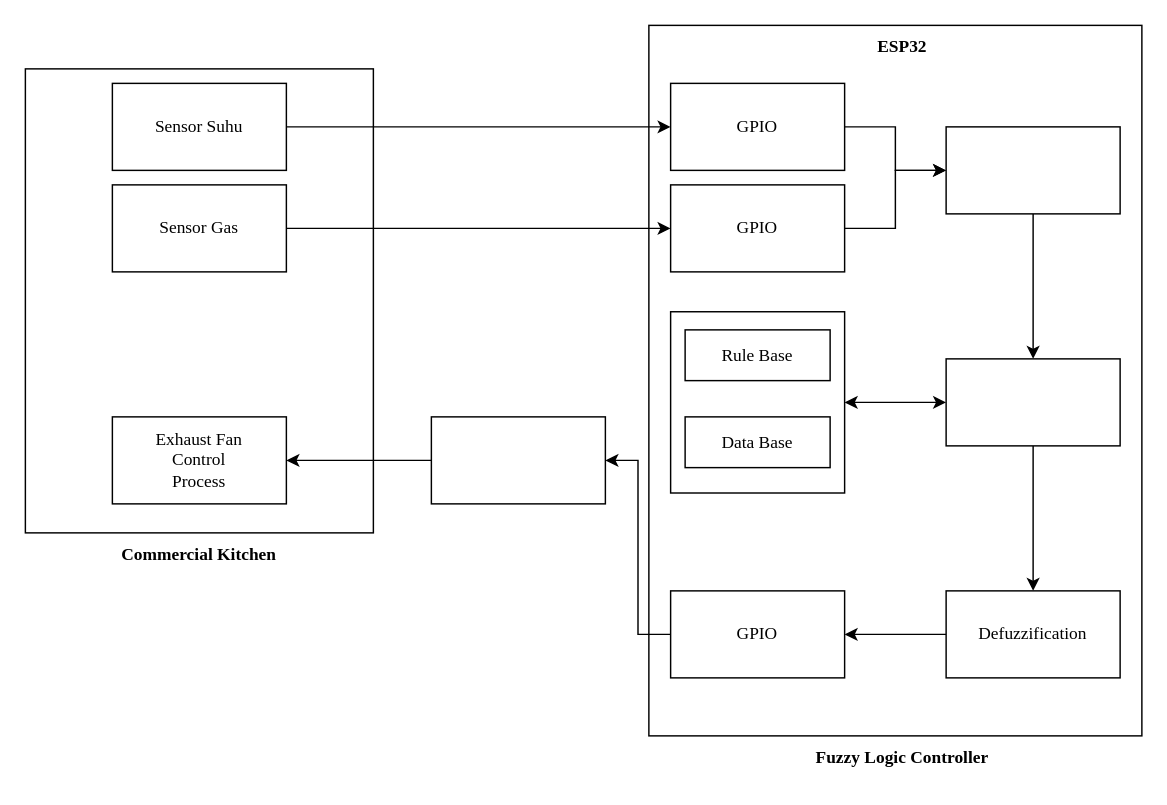
This 1167x805 diagram has some shape labels left out. Each missing label, with the centre of its shape:
Fuzzification: the point at 1032,169
Fuzzy Inference: the point at 1032,401
Motor Driver: the point at 517,459
